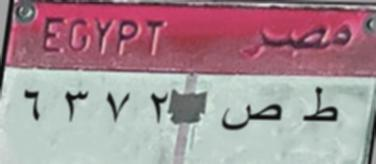2: (146, 90, 170, 126)
3: (59, 84, 92, 130)
6: (19, 84, 48, 124)
7: (102, 87, 132, 127)
Taa: (296, 82, 338, 128)
saad: (222, 96, 282, 140)
